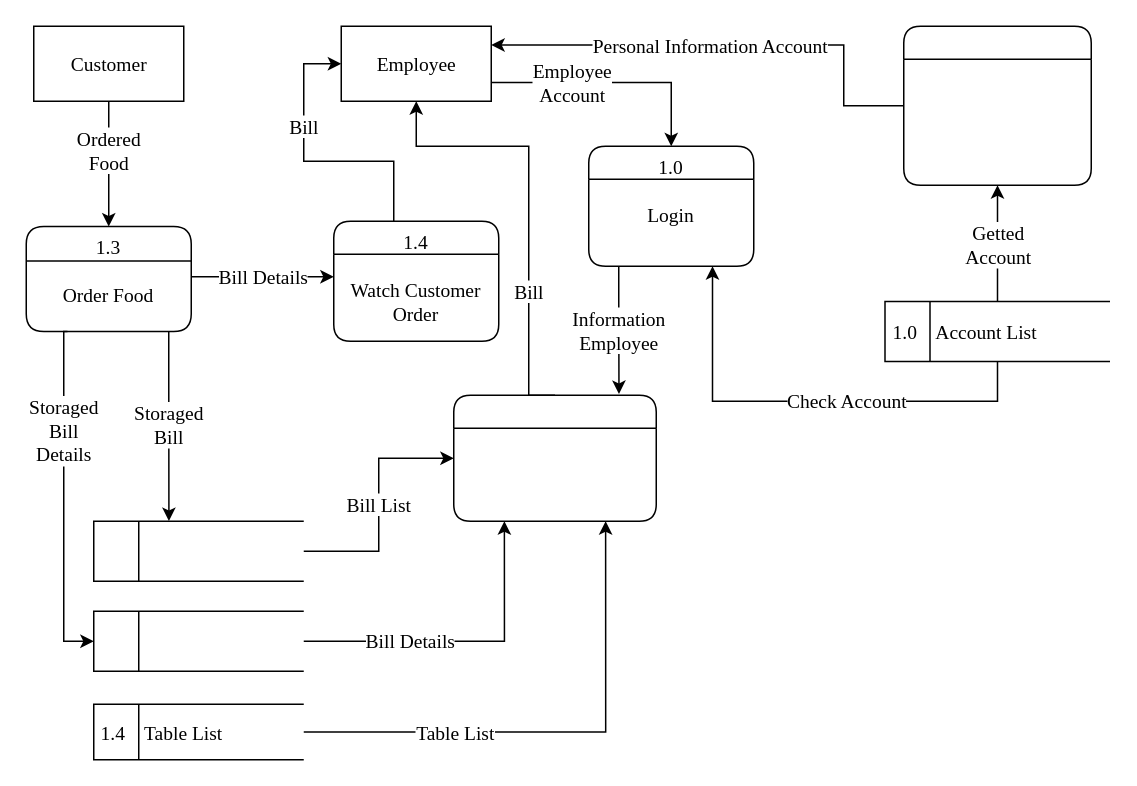
Image size: 1137x786. Some labels were removed from this diagram. The centre of each missing label's shape, as x and y in pixels:
"1.1 Bill List" goes at [198,550].
"1.2 Bill Details List" goes at [198,640].
"1.2 Manage Personal Information Account" goes at [996,105].
"1.6 Manage Order" goes at [554,457].
